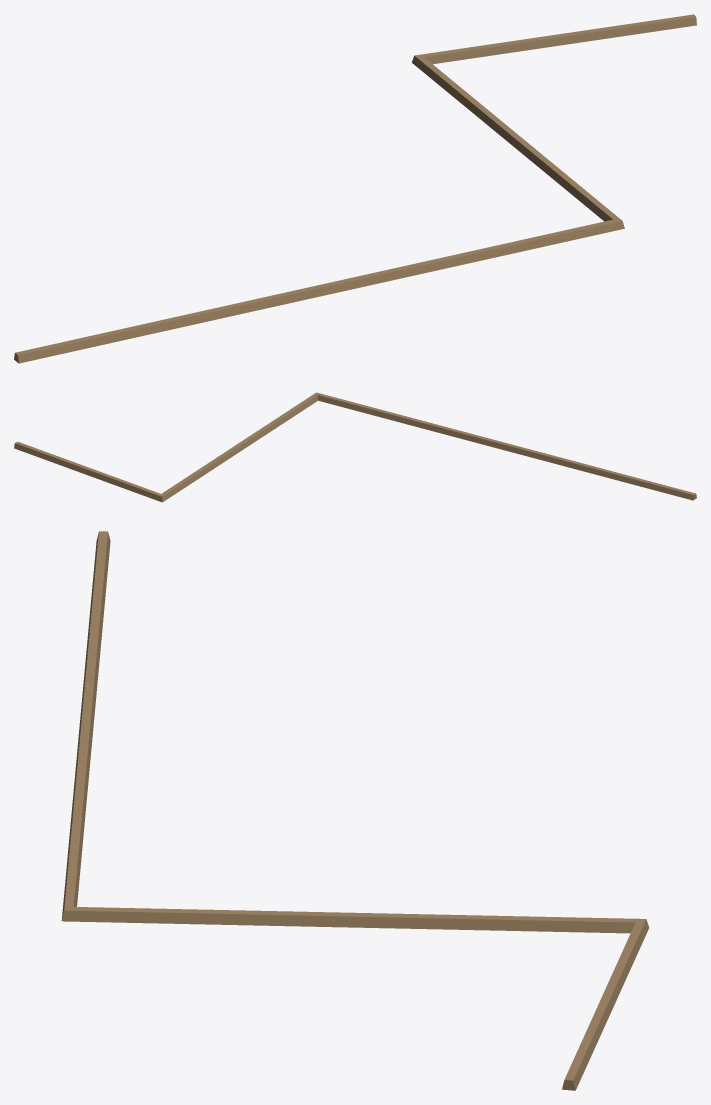
File: wall-00.glb
The picture shows the model from 3 angles, top to bottom: view 1: azimuth 30°, elevation 25°; view 2: azimuth 150°, elevation 25°; view 3: azimuth 270°, elevation 25°; orthographic projection. The views are drawn at different scales.
Parts seen in each view (by area): view 1: C_wall_B_00; view 2: C_wall_B_00; view 3: C_wall_B_00.
Part boxes in pixels (x1,y1,x2,y2): C_wall_B_00: [14, 14, 696, 363]; C_wall_B_00: [14, 392, 696, 502]; C_wall_B_00: [61, 531, 649, 1090].
Size of the model in its own units: 928 by 7.83 by 419.
